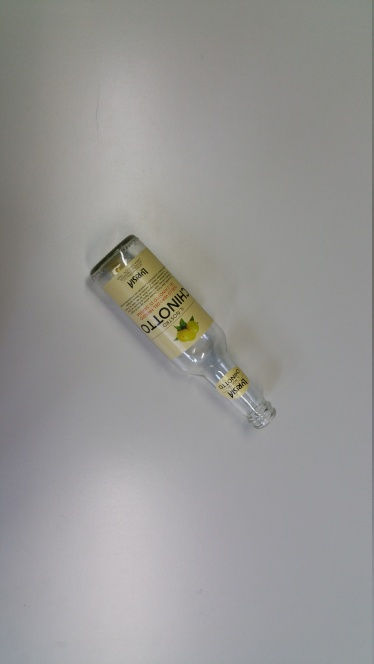bottle: (84, 229, 289, 438)
